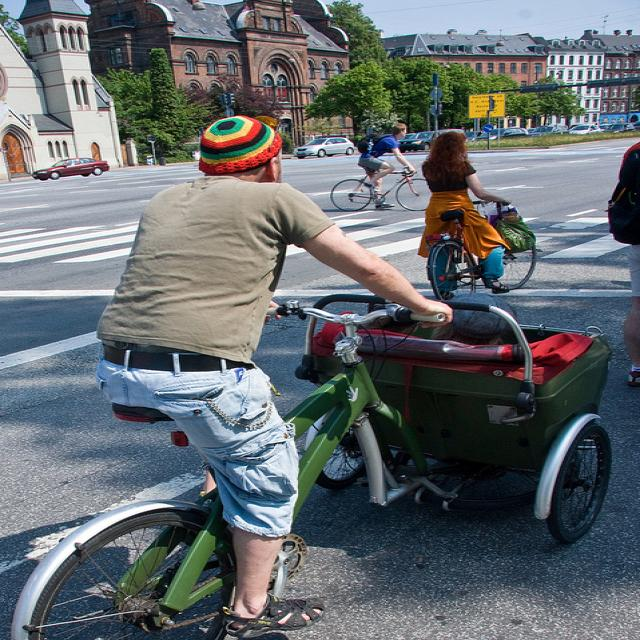Vehicle: (31, 156, 110, 180), (293, 137, 354, 159), (399, 131, 436, 152), (569, 124, 602, 134), (526, 126, 556, 136), (476, 128, 499, 140), (502, 127, 529, 137), (603, 124, 635, 132), (466, 132, 483, 140)
